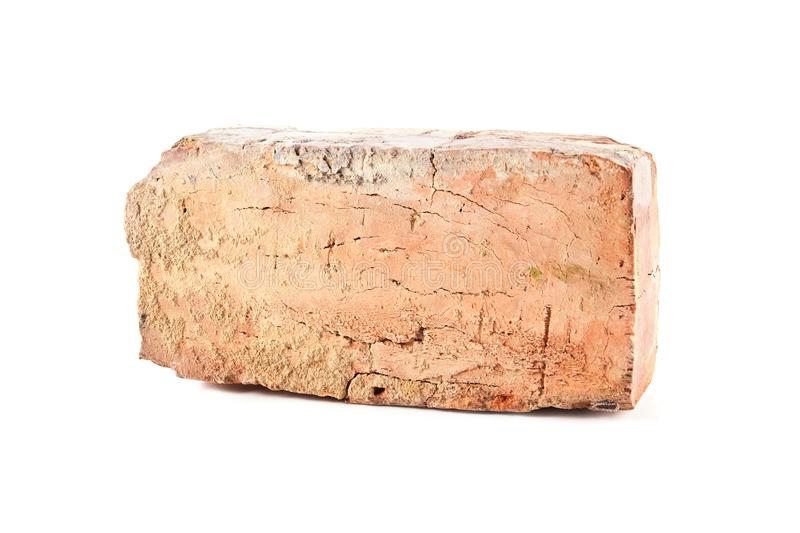brick: (174, 137, 646, 401)
